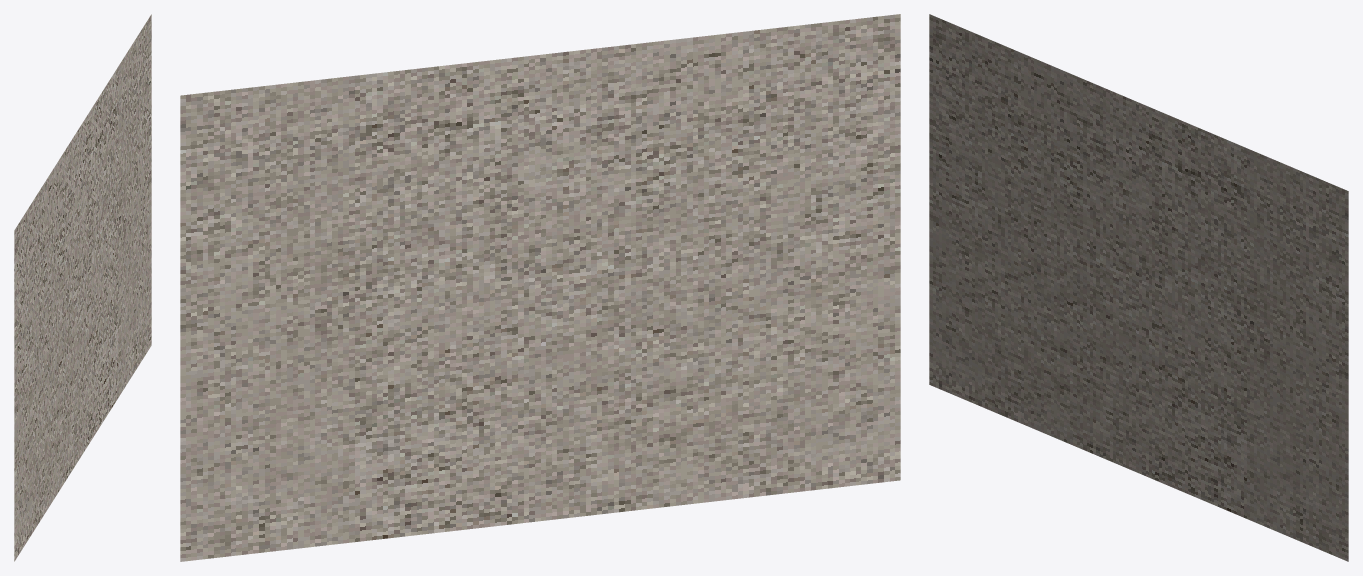
Rendered from wallDiagonalPlaster2.glb.
3 renders of one model, left to right at view 1: azimuth 30°, elevation 25°; view 2: azimuth 150°, elevation 25°; view 3: azimuth 270°, elevation 25°, orthographic. The views are drawn at different scales.
Visible parts, largest first — view 1: wallDiagonalPlaster2; view 2: wallDiagonalPlaster2; view 3: wallDiagonalPlaster2.
Boxes of the visible parts, box(x1,y1,x2,y2) form: wallDiagonalPlaster2: box(14, 14, 151, 561); wallDiagonalPlaster2: box(180, 14, 900, 561); wallDiagonalPlaster2: box(929, 14, 1348, 561).
Bounding box in the file's own units: 4.1 × 4 × 4.1.
1 material, 1 textured.
